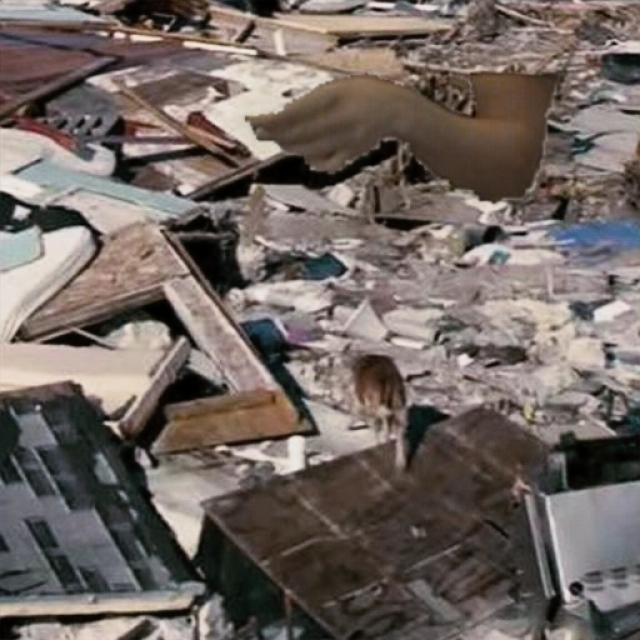Person in Rubble: (245, 71, 556, 200)
